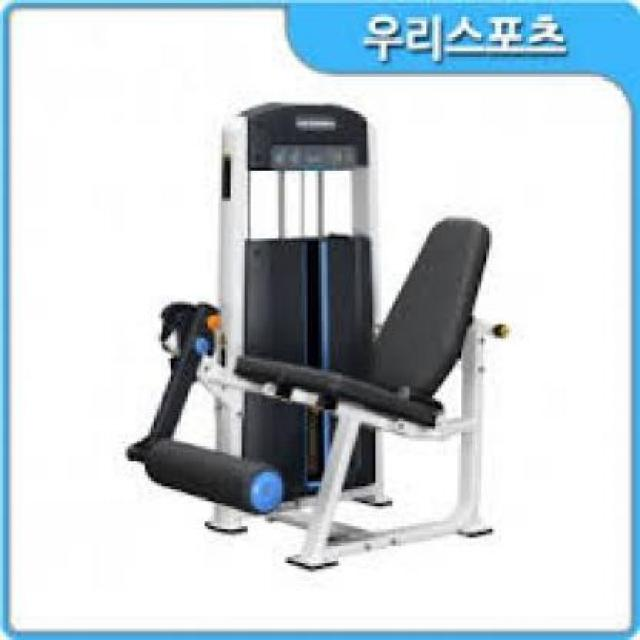leg extension: (109, 90, 523, 588)
